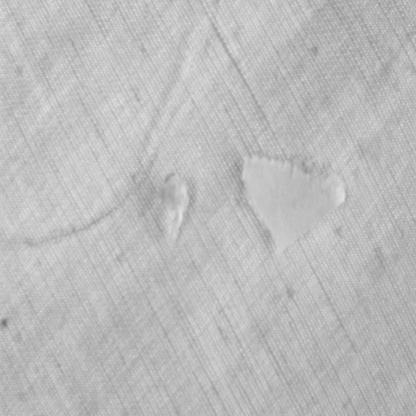objects: (0, 149, 155, 252), (239, 150, 349, 252), (157, 167, 195, 247)
